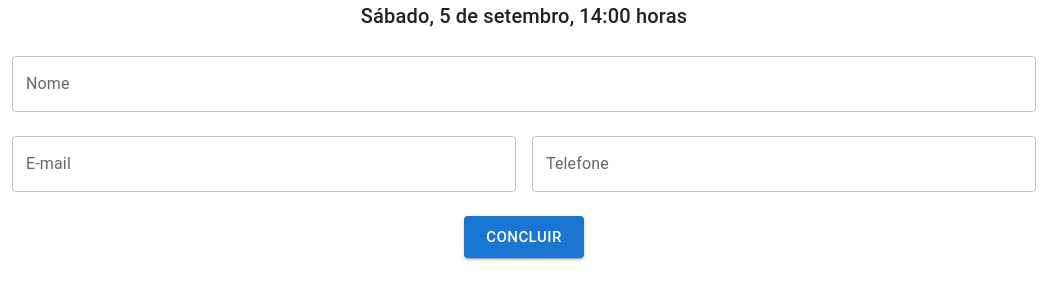
ScheduleForm › rejects a phone with the wrong number of digits
The width and height of the screenshot is (1048, 308).
Type "Ana Souza" into the field labelled "Nome". click: (524, 84)
box: [12,56,1036,112]
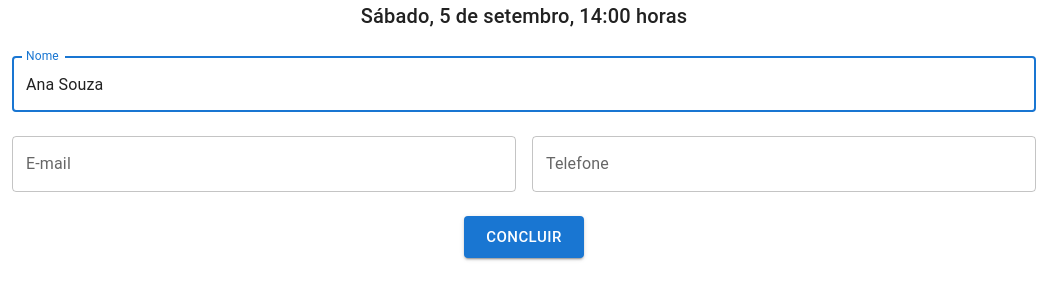
Type "ana@example.com" into the field labelled "E-mail". click: (264, 164)
box: [12,136,516,192]
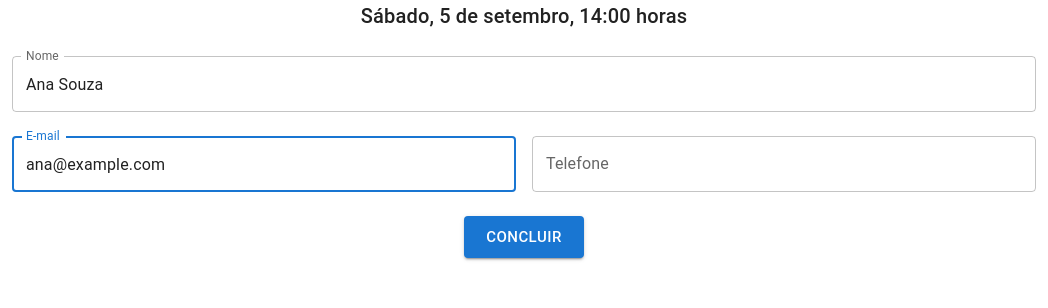
Type "1198" into the field labelled "Telefone". click: (784, 164)
box: [532,136,1036,192]
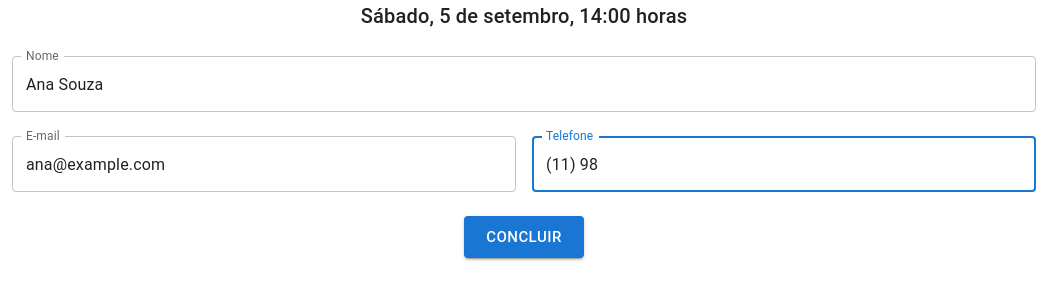
Click the button "Concluir". click: (524, 237)
box: [464,216,584,258]
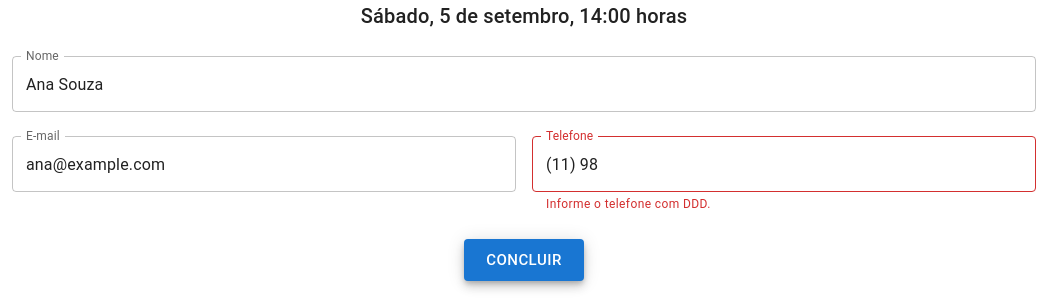
Expected: the text "Informe o telefone com DDD." is shown, [546,197,711,211]
